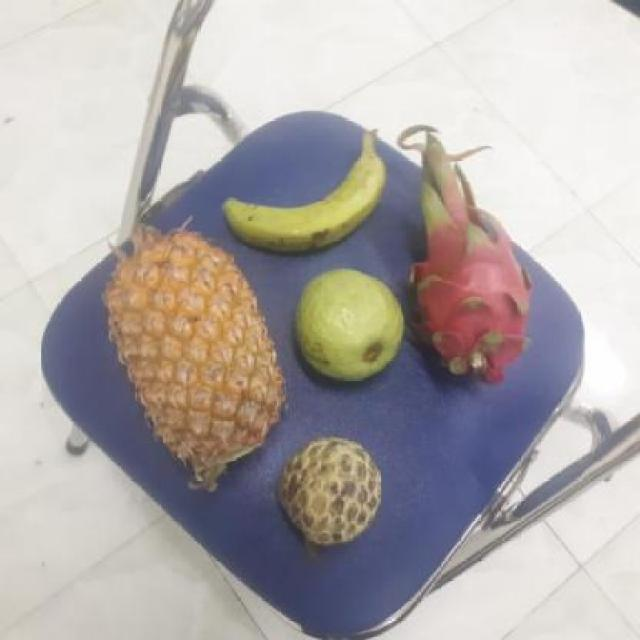banana: (217, 143, 385, 254)
dragon fruit: (401, 198, 528, 372)
guava: (289, 268, 405, 382)
pineapple: (101, 228, 279, 480)
sugar apple: (270, 436, 382, 547)
